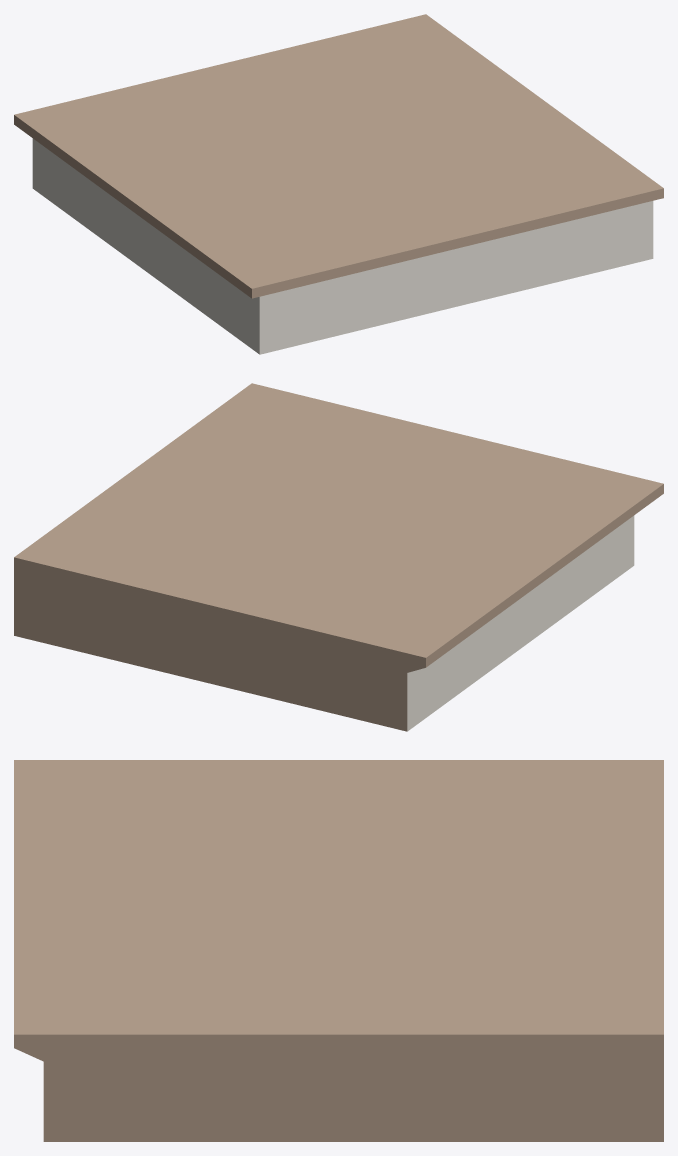
Rendered from Structure_Balcony_2_Edges_Corner.fbx.
3 views of the same model, one above another, from view 1: azimuth 30°, elevation 25°; view 2: azimuth 150°, elevation 25°; view 3: azimuth 270°, elevation 25° (orthographic). The views are drawn at different scales.
Visible parts, largest first — view 1: object1.056; view 2: object1.056; view 3: object1.056.
Part boxes in pixels (left/top/right/bottom): object1.056: left=14, top=14, right=663, bottom=354; object1.056: left=14, top=383, right=663, bottom=731; object1.056: left=14, top=760, right=663, bottom=1141.
Bounding box in the file's own units: 110 × 20 × 110.
